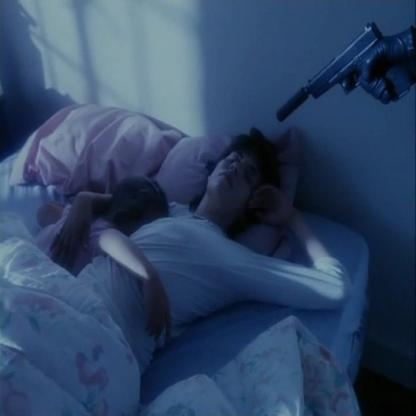gun: (267, 19, 405, 136)
